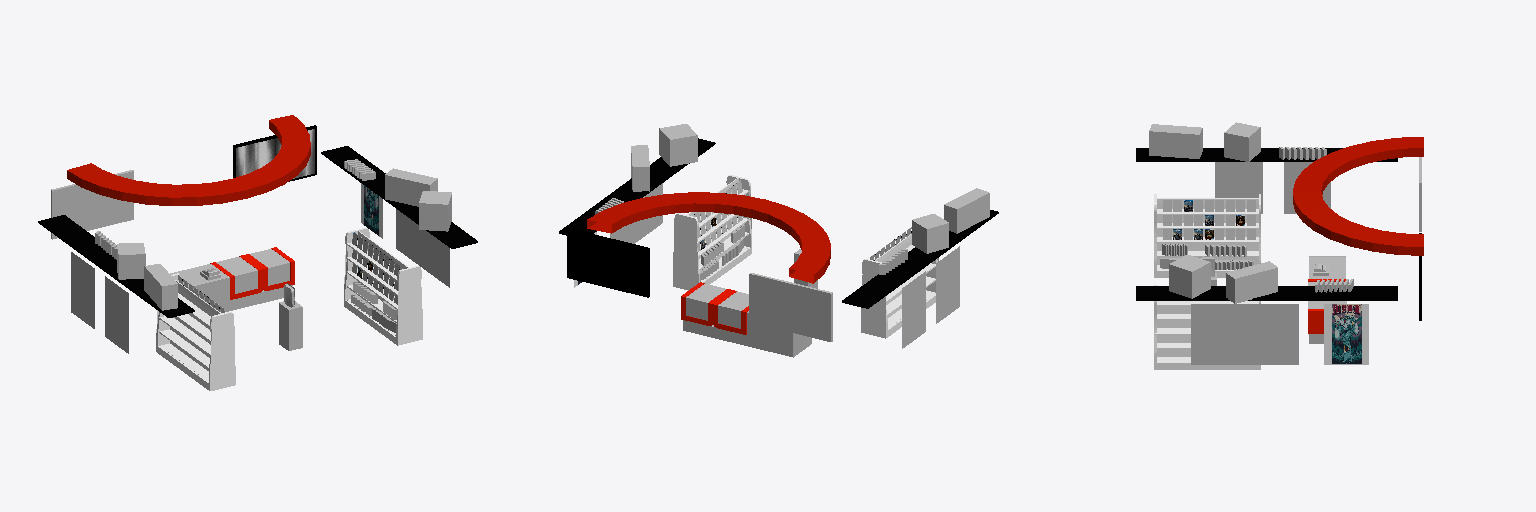
The picture shows the model from 3 angles: view 1: azimuth 30°, elevation 25°; view 2: azimuth 150°, elevation 25°; view 3: azimuth 270°, elevation 25°; orthographic projection.
Parts seen in each view (by area): view 1: Plane.007_Plane.004, Circle_Circle.002, desk_Cube.039, Plane.006_Plane.003, Cube.002_Cube.038, poster2_poster2.002, Cube.004_Cube.037, Cube.008_Cube.032, poster3_poster3.002, poster4_poster4.002, switch.001_Cube.033, Cube.007_Cube.034 (+4 smaller); view 2: Circle_Circle.002, Plane.007_Plane.004, desk_Cube.039, Cube.002_Cube.038, Cube.004_Cube.037, Plane.006_Plane.003, poster4_poster4.002, poster3_poster3.002, switch_Cube.036, Cube.007_Cube.034, Cube.006_Cube.035, Cube.008_Cube.032 (+2 smaller); view 3: poster2_poster2.002, Circle_Circle.002, Plane.007_Plane.004, Plane.006_Plane.003, Cube.008_Cube.032, poster1_poster1.002, poster4_poster4.002, switch_Cube.036, switch.001_Cube.033, desk_Cube.039, Cube.007_Cube.034, Cube.006_Cube.035 (+2 smaller).
Boxes of the visible parts, <box> form: Plane.007_Plane.004: <box>156,228,422,390</box>; Circle_Circle.002: <box>67,115,310,205</box>; desk_Cube.039: <box>170,247,294,311</box>; Plane.006_Plane.003: <box>38,146,477,317</box>; Cube.002_Cube.038: <box>51,170,133,239</box>; poster2_poster2.002: <box>396,209,449,287</box>; Cube.004_Cube.037: <box>233,125,316,181</box>; Cube.008_Cube.032: <box>178,232,399,312</box>; poster3_poster3.002: <box>71,252,94,328</box>; poster4_poster4.002: <box>105,276,128,353</box>; switch.001_Cube.033: <box>385,168,437,206</box>; Cube.007_Cube.034: <box>419,191,451,231</box>; Circle_Circle.002: <box>587,192,830,283</box>; Plane.007_Plane.004: <box>673,175,938,338</box>; desk_Cube.039: <box>681,282,811,357</box>; Cube.002_Cube.038: <box>749,273,832,341</box>; Cube.004_Cube.037: <box>567,228,649,297</box>; Plane.006_Plane.003: <box>559,138,998,308</box>; poster4_poster4.002: <box>936,246,959,323</box>; poster3_poster3.002: <box>902,271,925,348</box>; switch_Cube.036: <box>944,188,989,233</box>; Cube.007_Cube.034: <box>659,124,697,166</box>; Cube.006_Cube.035: <box>912,214,948,253</box>; Cube.008_Cube.032: <box>694,180,911,260</box>; poster2_poster2.002: <box>1191,304,1298,364</box>; Circle_Circle.002: <box>1293,137,1423,255</box>; Plane.007_Plane.004: <box>1154,194,1260,369</box>; Plane.006_Plane.003: <box>1136,148,1397,300</box>; Cube.008_Cube.032: <box>1163,200,1255,239</box>; poster1_poster1.002: <box>1324,304,1368,364</box>; poster4_poster4.002: <box>1215,162,1262,213</box>; switch_Cube.036: <box>1149,124,1202,158</box>; switch.001_Cube.033: <box>1226,261,1277,303</box>; desk_Cube.039: <box>1308,256,1346,343</box>; Cube.007_Cube.034: <box>1169,254,1210,298</box>; Cube.006_Cube.035: <box>1224,122,1260,161</box>.
Bounding box in the file's own units: 9.13 × 3.44 × 7.11.
Materials: 37 (4 with a texture image).